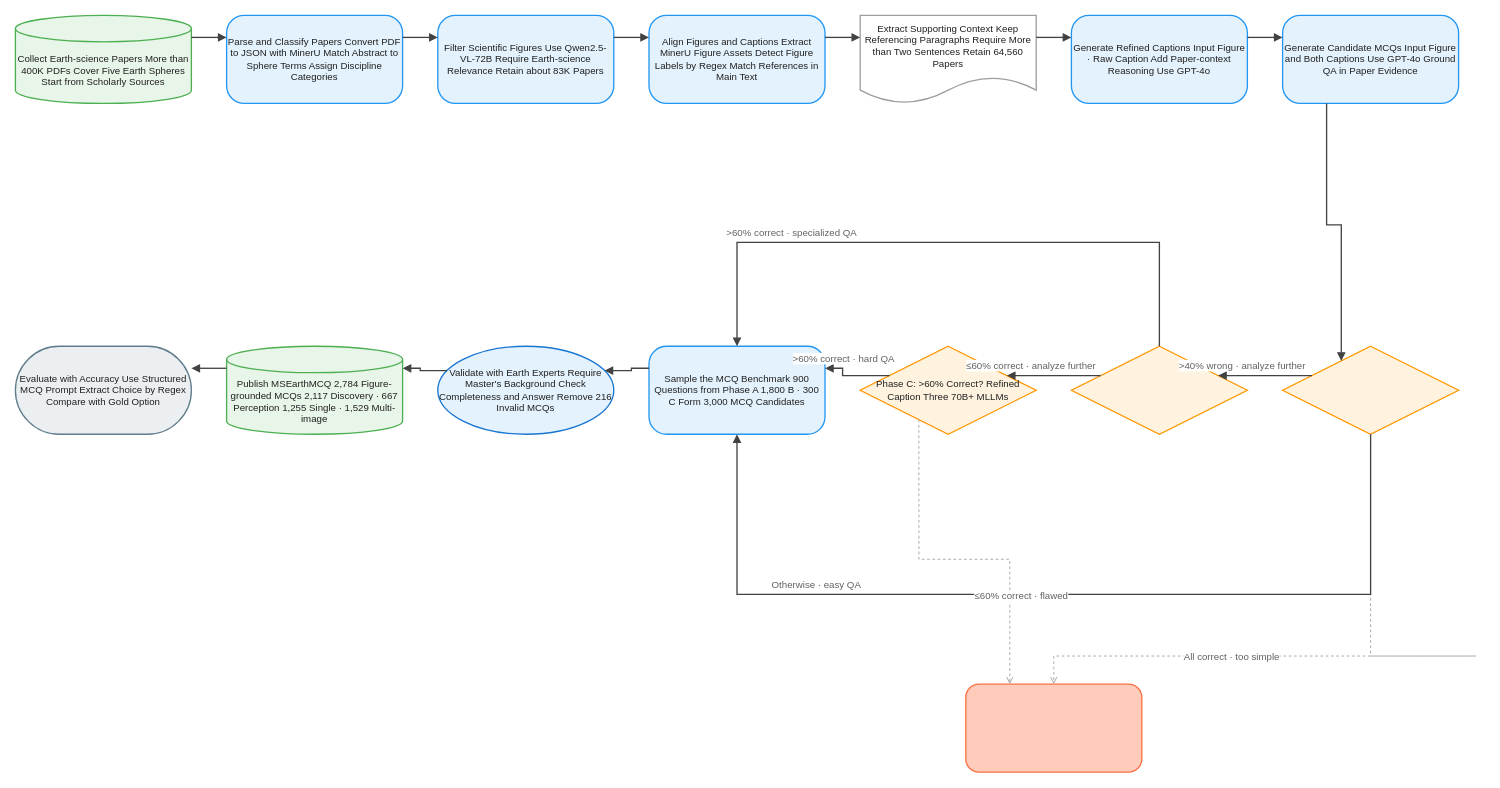
This 1500x788 diagram has some shape labels left out. Here are the shapes that lost their labels. From the top down, the centre of each, then its label:
At [1159,390]: "Phase B: >60% Correct? Refined Caption Same Five MLLMs".
At [1370,390]: "Phase A Vote Outcome? Original Caption Five MLLMs".
At [1053,727]: "Discard Candidate Overly Simple or Flawed".
